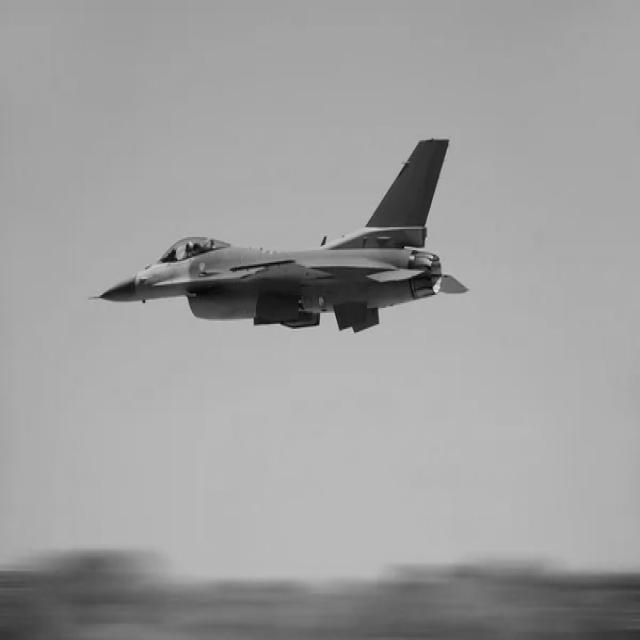Aircraft: (83, 121, 470, 336)
